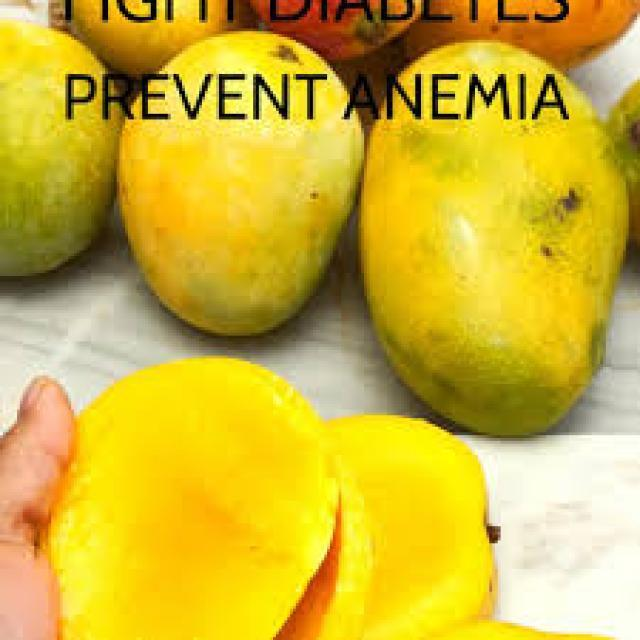Mango: (356, 37, 628, 435), (33, 354, 386, 640), (113, 28, 364, 336), (304, 414, 494, 640), (0, 14, 122, 275), (369, 0, 640, 71), (61, 0, 253, 84), (241, 0, 426, 65)
